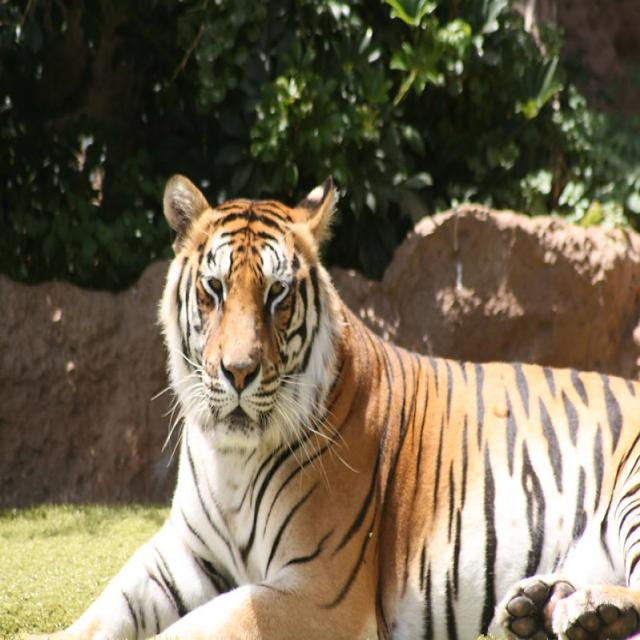Tiger: (23, 167, 638, 634)
